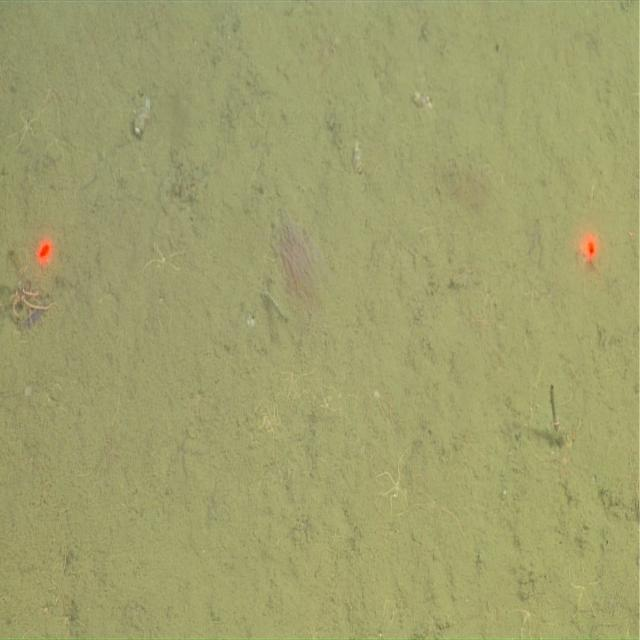Brittle Star: (268, 463, 340, 574), (79, 397, 142, 504), (368, 447, 414, 521), (140, 232, 189, 287), (8, 276, 62, 324), (564, 554, 603, 618), (8, 101, 45, 153)
